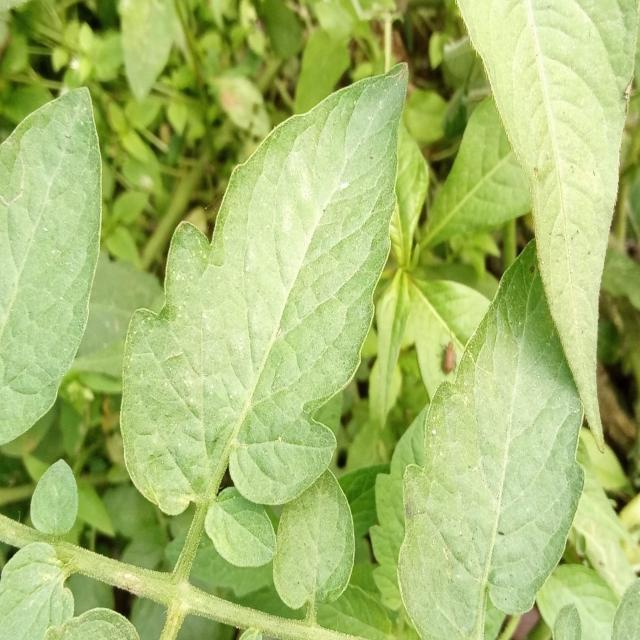Healthy: (84, 14, 440, 553), (354, 227, 640, 640), (457, 0, 640, 445), (0, 88, 101, 444), (272, 469, 356, 610), (190, 481, 294, 582), (0, 543, 74, 639)
